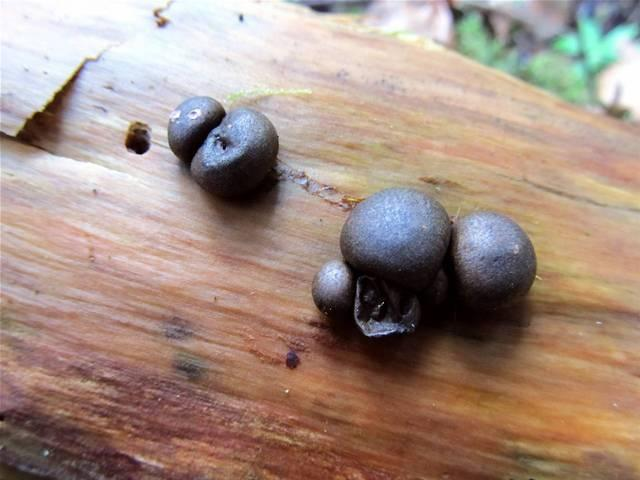Non-edible Mushroom: (311, 185, 537, 338), (338, 185, 451, 290), (448, 208, 537, 313), (189, 106, 279, 198), (352, 274, 421, 338), (166, 94, 225, 164), (310, 258, 355, 321)
